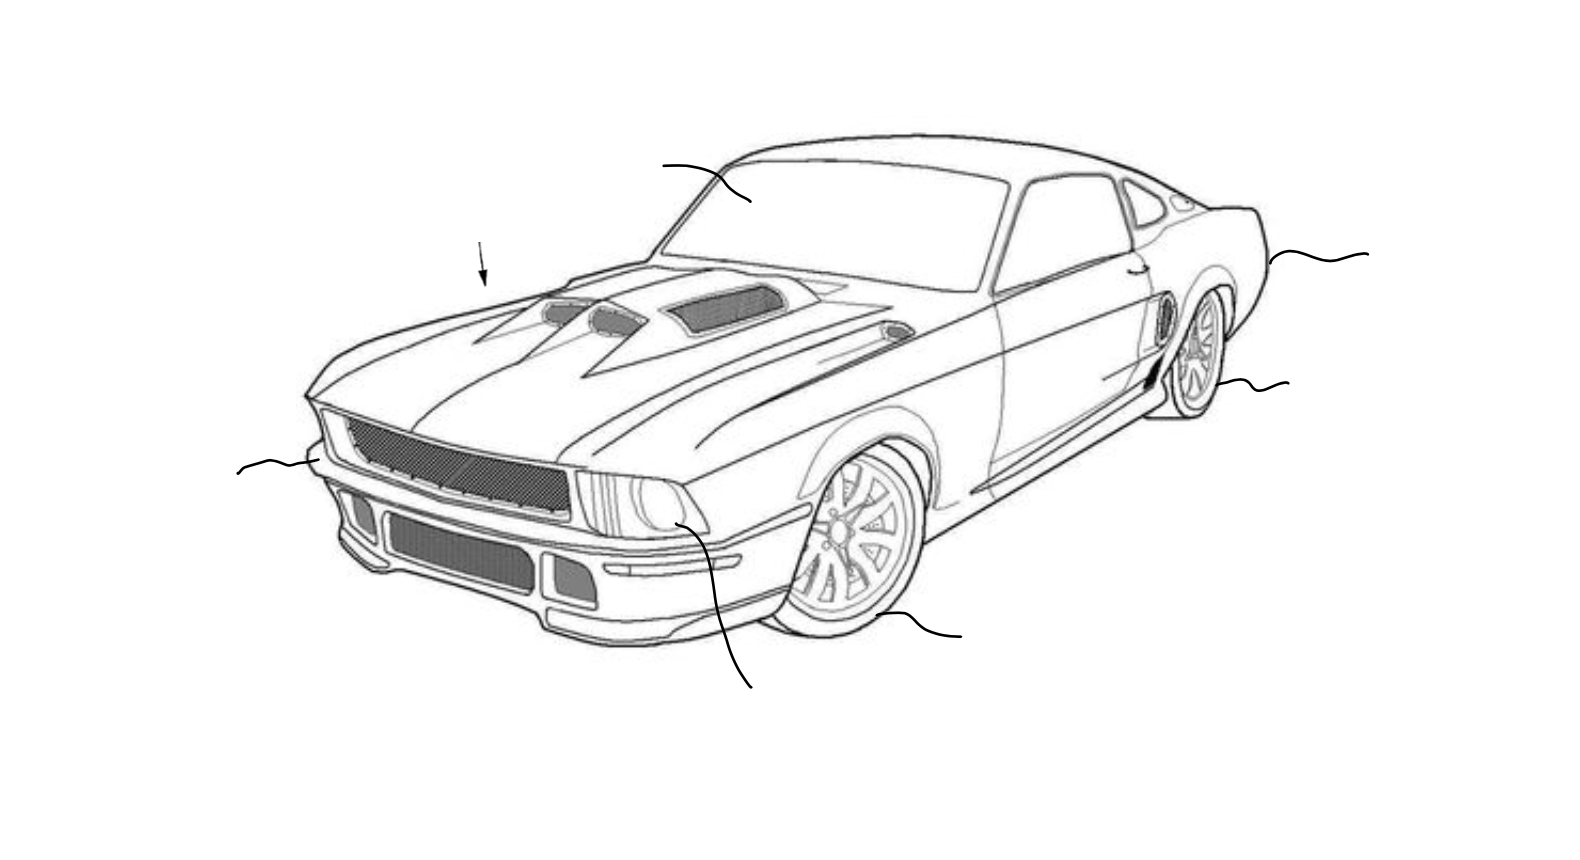Callout: (659, 498, 767, 703), (847, 571, 988, 667), (1227, 211, 1387, 284), (639, 131, 764, 216), (213, 436, 329, 505), (451, 219, 511, 292), (1205, 360, 1303, 402)
